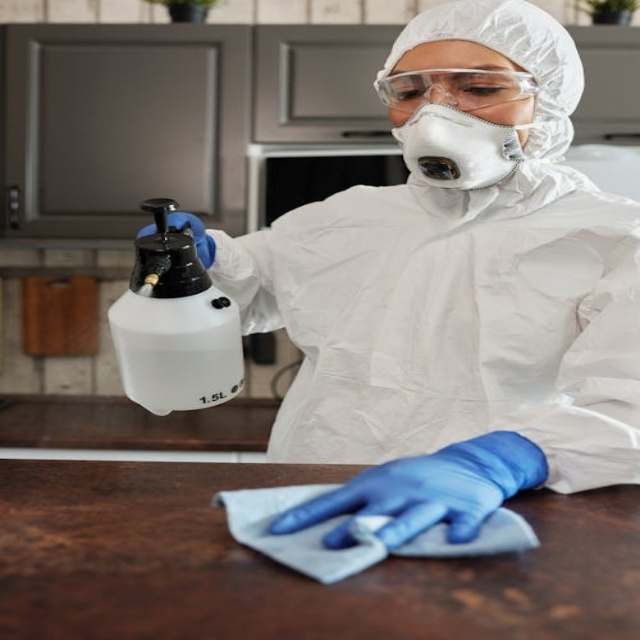Gafas: (375, 68, 542, 110)
Guantes: (270, 430, 549, 551), (135, 212, 216, 270)
Mascara: (392, 102, 530, 191)
